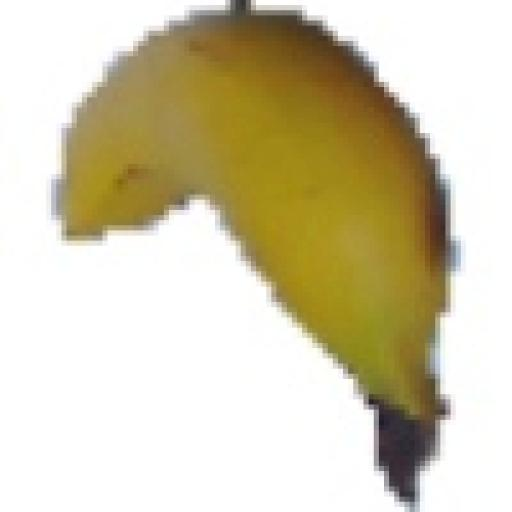banana: (62, 15, 445, 495)
